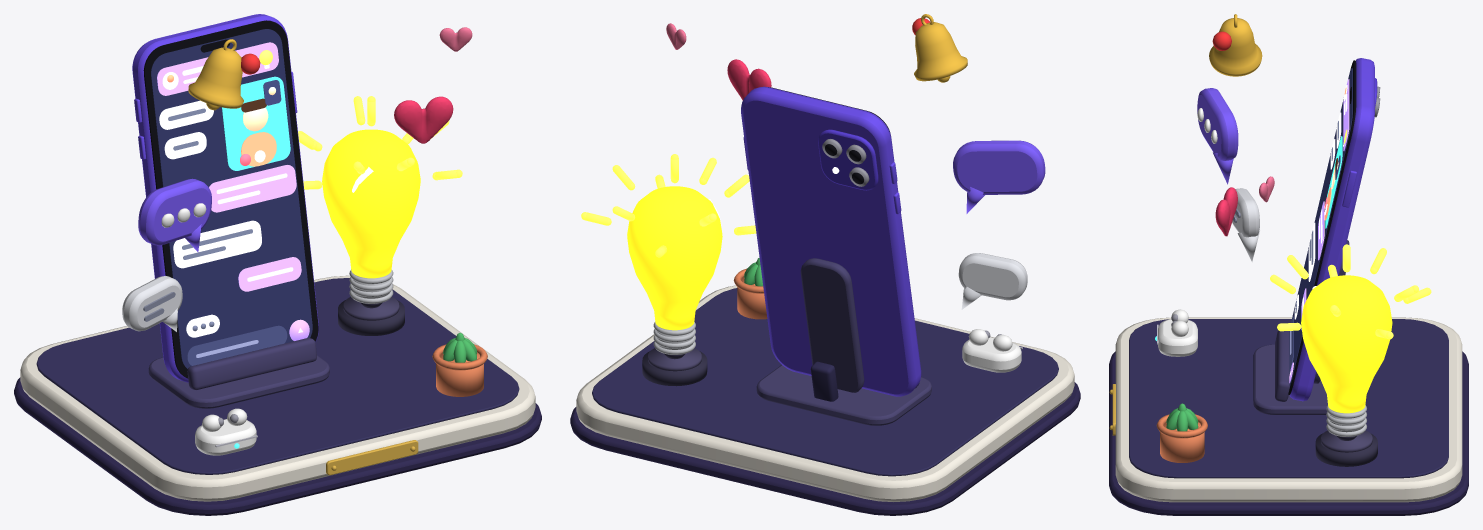
Rendered from lightup_phone.glb.
3 views of the same model, side by side, from view 1: azimuth 30°, elevation 25°; view 2: azimuth 150°, elevation 25°; view 3: azimuth 270°, elevation 25° (orthographic). The views are drawn at different scales.
Parts seen in each view (by area): view 1: lightup_phone; view 2: lightup_phone; view 3: lightup_phone.
Part boxes in pixels (box(x1,y1,x2,y2)): lightup_phone: box(14, 14, 541, 515); lightup_phone: box(570, 14, 1080, 515); lightup_phone: box(1109, 14, 1468, 515).
Bounding box in the file's own units: 0.9953 × 1 × 0.8568.
